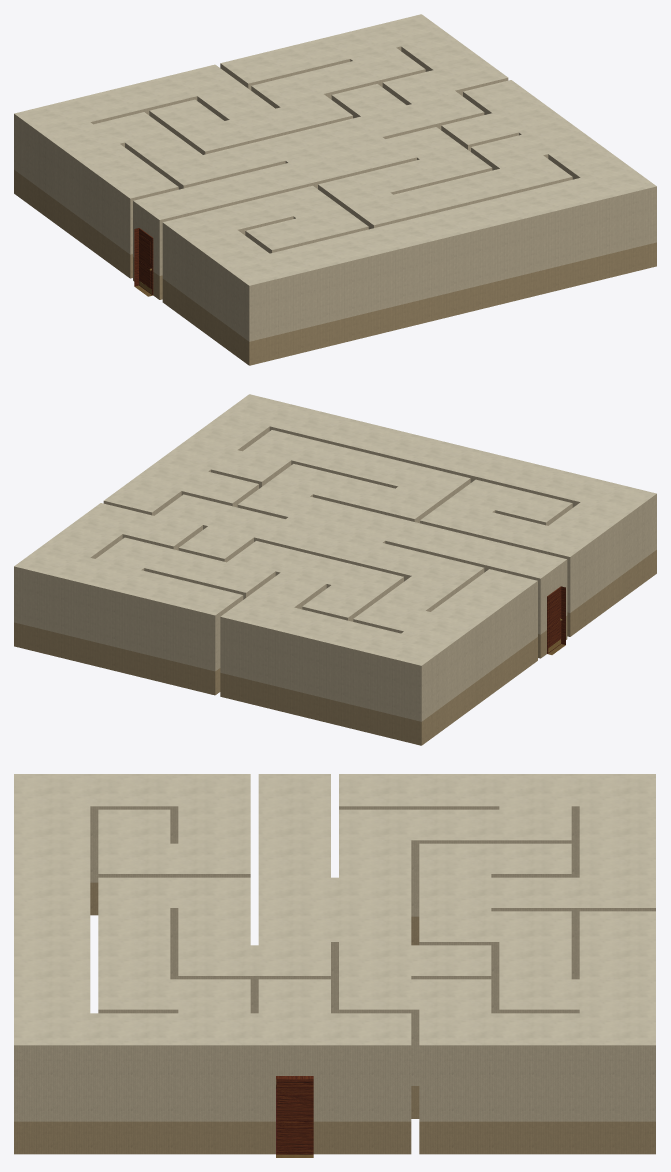
Rendered from maze_01.glb.
3 renders of one model, top to bottom at view 1: azimuth 30°, elevation 25°; view 2: azimuth 150°, elevation 25°; view 3: azimuth 270°, elevation 25°, orthographic. The views are drawn at different scales.
Visible parts, largest first — view 1: Skin_Ceiling_Popcorn.001, Skin_Wall_Upper.001, Skin_Wall_Lower.001, DoorLeaf_entry; view 2: Skin_Ceiling_Popcorn.001, Skin_Wall_Upper.001, Skin_Wall_Lower.001, DoorLeaf_entry; view 3: Skin_Ceiling_Popcorn.001, Skin_Wall_Upper.001, Skin_Wall_Lower.001, DoorLeaf_way_on.
Boxes of the visible parts, x1=… form: Skin_Ceiling_Popcorn.001: x1=14, y1=14, x2=656, y2=285; Skin_Wall_Upper.001: x1=14, y1=46, x2=656, y2=341; Skin_Wall_Lower.001: x1=14, y1=170, x2=656, y2=365; DoorLeaf_entry: x1=139, y1=228, x2=153, y2=295; Skin_Ceiling_Popcorn.001: x1=14, y1=394, x2=656, y2=665; Skin_Wall_Upper.001: x1=14, y1=426, x2=656, y2=721; Skin_Wall_Lower.001: x1=14, y1=550, x2=656, y2=745; DoorLeaf_entry: x1=547, y1=586, x2=562, y2=653; Skin_Ceiling_Popcorn.001: x1=14, y1=774, x2=655, y2=1045; Skin_Wall_Upper.001: x1=14, y1=806, x2=655, y2=1121; Skin_Wall_Lower.001: x1=14, y1=882, x2=655, y2=1154; DoorLeaf_way_on: x1=276, y1=1079, x2=313, y2=1154.
Bounding box in the file's own units: 16.4 × 3 × 16.03.
17 materials, 11 textured.
